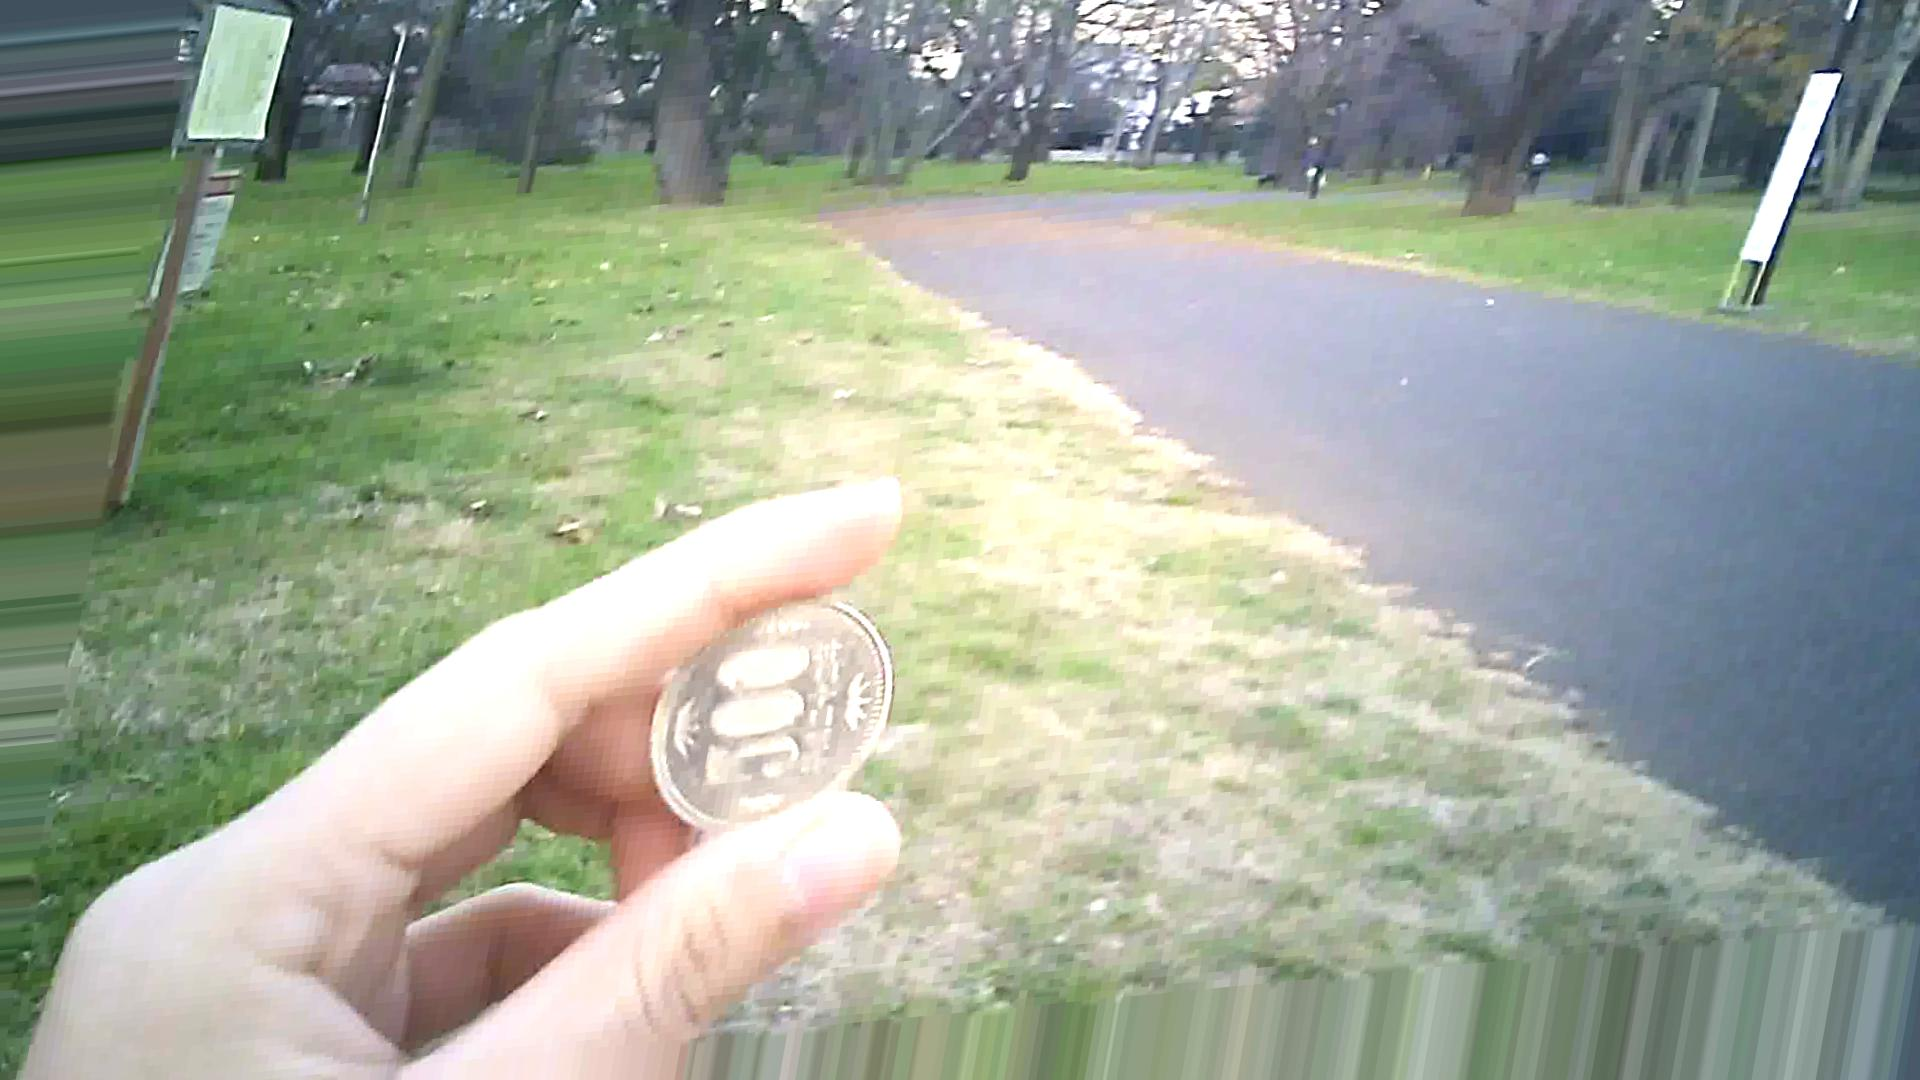500 Yen: (647, 585, 890, 836)
